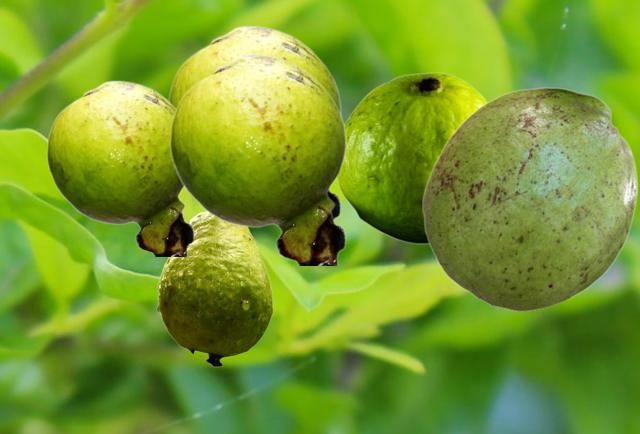guava: (421, 87, 637, 310), (169, 54, 346, 264), (168, 25, 341, 219), (46, 80, 194, 255), (336, 72, 487, 243), (156, 211, 272, 366)
